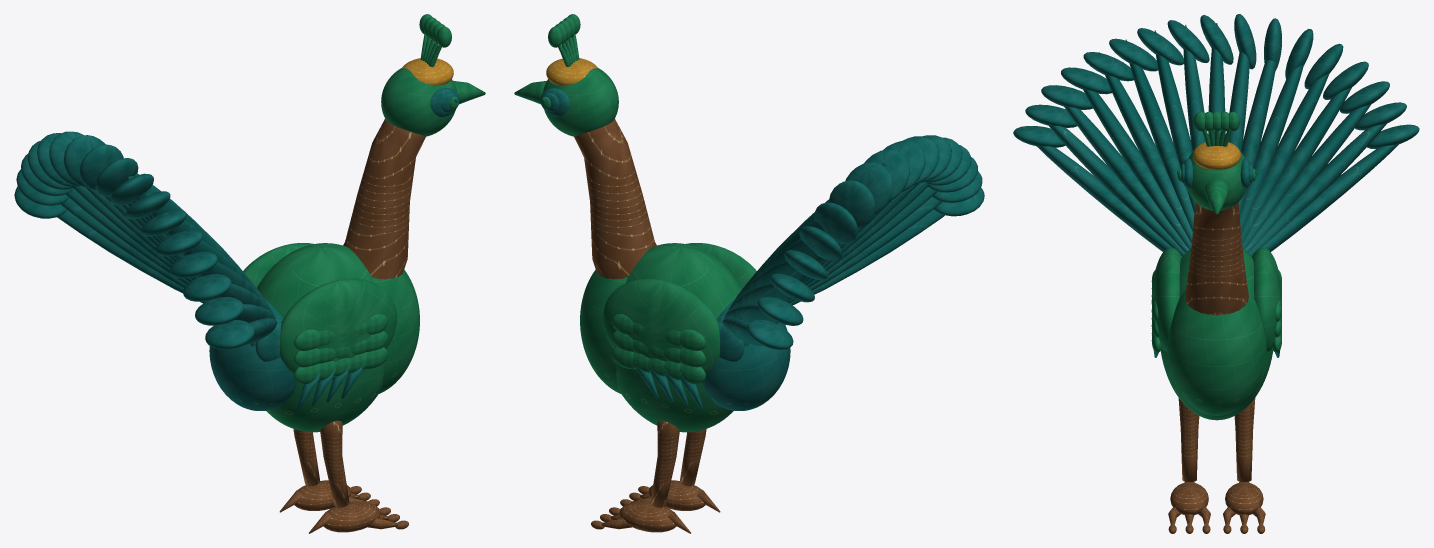
Rendered from Royal_India_Peacock_HighPoly_Textured.glb.
3 renders of one model, left to right at view 1: azimuth 30°, elevation 25°; view 2: azimuth 150°, elevation 25°; view 3: azimuth 270°, elevation 25°, orthographic. The views are drawn at different scales.
Parts seen in each view (by area): view 1: Rounded peacock torso_smooth, Long elegant curved neck_smooth, far folded wing_smooth, Tail base rump_smooth, Peacock head_smooth, Breast plumage_smooth, far leg_smooth, Tail feather 01_smooth, far foot pad_smooth, Tail feather 02_smooth, Tail eye bronze rim 17_smooth, Tail eye bronze rim 16_smooth (+25 smaller); view 2: Rounded peacock torso_smooth, Long elegant curved neck_smooth, near folded wing_smooth, Tail base rump_smooth, Peacock head_smooth, Breast plumage_smooth, near leg_smooth, Tail feather 17_smooth, Tail eye bronze rim 07_smooth, near foot pad_smooth, Tail feather 16_smooth, Tail eye bronze rim 06_smooth (+25 smaller); view 3: Breast plumage_smooth, Long elegant curved neck_smooth, Tail feather 13_smooth, Tail feather 05_smooth, Tail feather 04_smooth, Tail feather 14_smooth, Tail feather 03_smooth, Tail feather 15_smooth, Tail feather 12_smooth, Tail feather 06_smooth, Tail feather 02_smooth, Tail feather 16_smooth (+34 smaller).
Boxes of the visible parts, left/top/right/bottom form: Rounded peacock torso_smooth: left=257, top=243, right=383, bottom=432; Long elegant curved neck_smooth: left=343, top=119, right=425, bottom=279; far folded wing_smooth: left=280, top=278, right=396, bottom=381; Tail base rump_smooth: left=209, top=299, right=297, bottom=410; Peacock head_smooth: left=381, top=68, right=456, bottom=136; Breast plumage_smooth: left=372, top=269, right=419, bottom=393; far leg_smooth: left=320, top=420, right=349, bottom=507; Tail feather 01_smooth: left=57, top=210, right=206, bottom=303; far foot pad_smooth: left=323, top=501, right=380, bottom=532; Tail feather 02_smooth: left=60, top=198, right=207, bottom=301; Tail eye bronze rim 17_smooth: left=205, top=320, right=254, bottom=349; Tail eye bronze rim 16_smooth: left=195, top=297, right=243, bottom=325; Rounded peacock torso_smooth: left=616, top=243, right=742, bottom=432; Long elegant curved neck_smooth: left=574, top=119, right=656, bottom=279; near folded wing_smooth: left=603, top=278, right=720, bottom=381; Tail base rump_smooth: left=702, top=299, right=790, bottom=410; Peacock head_smooth: left=543, top=68, right=618, bottom=136; Breast plumage_smooth: left=580, top=269, right=627, bottom=393; near leg_smooth: left=650, top=420, right=679, bottom=507; Tail feather 17_smooth: left=789, top=209, right=944, bottom=305; Tail eye bronze rim 07_smooth: left=828, top=180, right=875, bottom=229; near foot pad_smooth: left=619, top=501, right=676, bottom=532; Tail feather 16_smooth: left=788, top=197, right=942, bottom=303; Tail eye bronze rim 06_smooth: left=814, top=202, right=857, bottom=244; Breast plumage_smooth: left=1167, top=290, right=1266, bottom=415; Long elegant curved neck_smooth: left=1185, top=202, right=1248, bottom=315; Tail feather 13_smooth: left=1099, top=52, right=1192, bottom=243; Tail feather 05_smooth: left=1241, top=73, right=1329, bottom=243; Tail feather 04_smooth: left=1242, top=87, right=1351, bottom=249; Tail feather 14_smooth: left=1075, top=68, right=1191, bottom=249; Tail feather 03_smooth: left=1244, top=104, right=1370, bottom=252; Tail feather 15_smooth: left=1064, top=106, right=1189, bottom=252; Tail feather 12_smooth: left=1126, top=40, right=1194, bottom=231; Tail feather 06_smooth: left=1239, top=64, right=1303, bottom=231; Tail feather 02_smooth: left=1248, top=123, right=1386, bottom=256; Tail feather 16_smooth: left=1049, top=125, right=1185, bottom=256.
Size of the model in its own units: 2.63 by 3.07 by 2.52.
4 materials, 4 textured.
